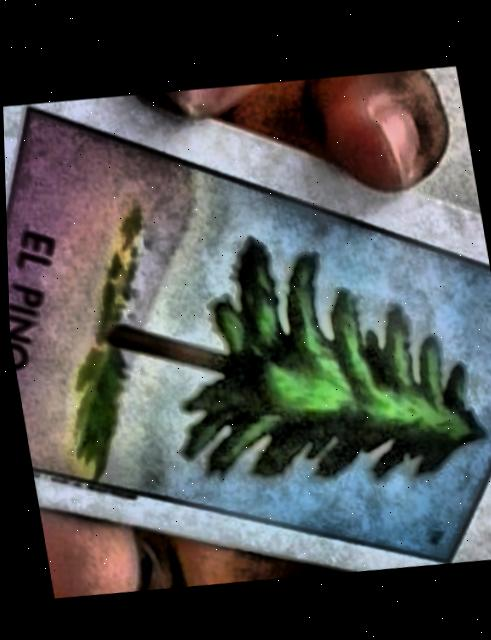El Pino: (5, 109, 491, 558)
